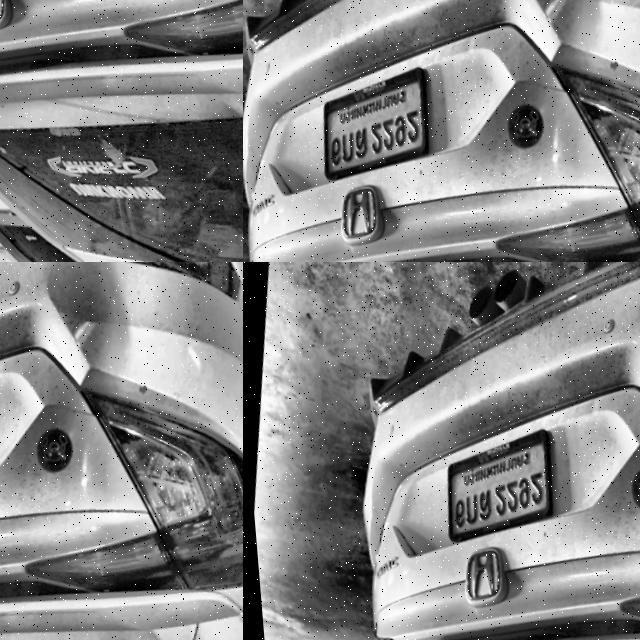license-plate: (429, 412, 564, 563)
